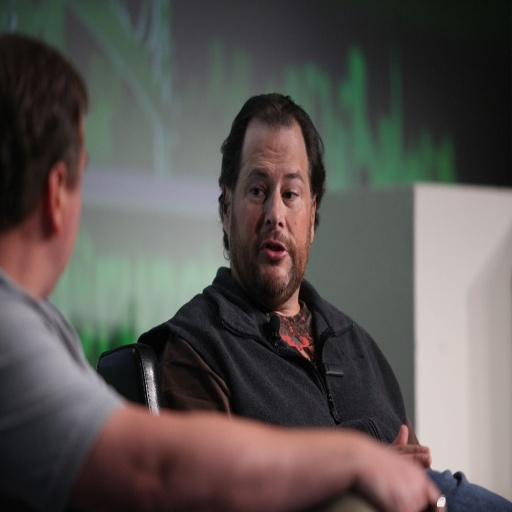hand: (320, 435, 459, 502), (389, 422, 432, 469)
